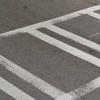Crosswalk: (5, 21, 100, 100)
